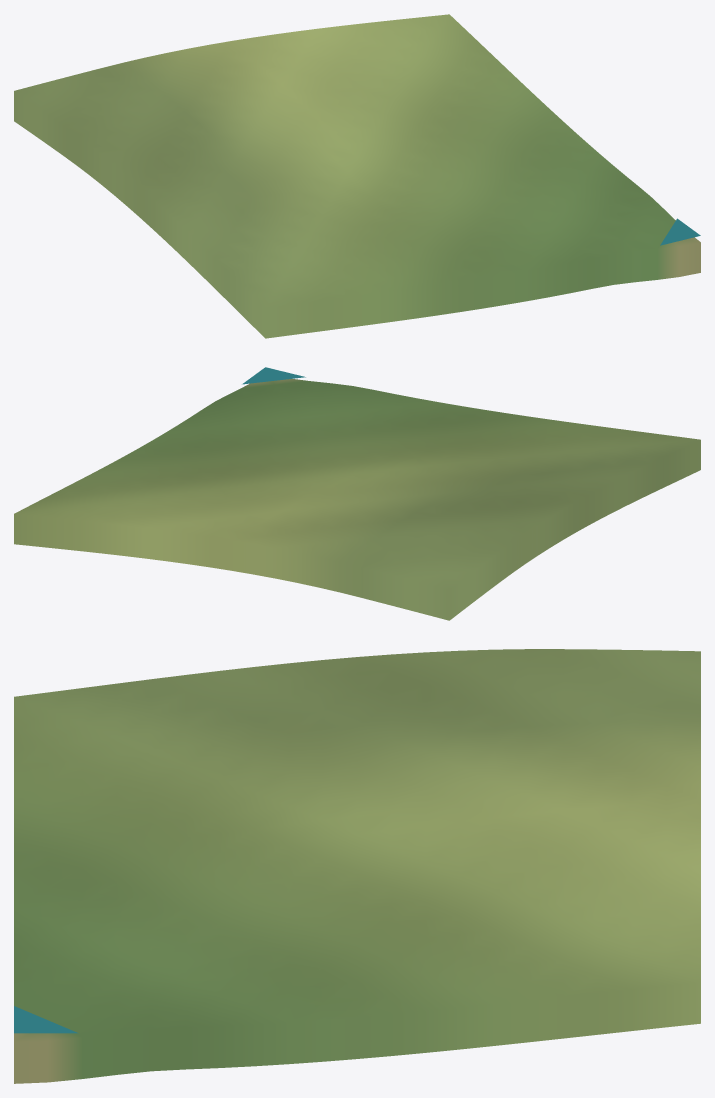
3 views of the same model, one above another, from view 1: azimuth 30°, elevation 25°; view 2: azimuth 150°, elevation 25°; view 3: azimuth 270°, elevation 25° (orthographic). The views are drawn at different scales.
Visible parts, largest first — view 1: terrain, scenery; view 2: terrain, scenery; view 3: terrain, scenery.
Boxes of the visible parts, left/top/right/bottom form: terrain: left=14, top=14, right=700, bottom=338; scenery: left=660, top=218, right=700, bottom=245; terrain: left=14, top=378, right=700, bottom=620; scenery: left=242, top=367, right=305, bottom=384; terrain: left=14, top=649, right=700, bottom=1083; scenery: left=14, top=1006, right=78, bottom=1033.
Bounding box in the file's own units: 30 × 6.98 × 30.
